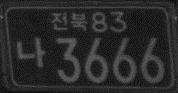3: (55, 36, 81, 82), (109, 10, 127, 33)
6: (111, 36, 138, 85), (140, 36, 166, 85), (84, 37, 108, 84)
8: (91, 10, 107, 32)
나: (15, 36, 46, 68)
전북_O: (50, 11, 87, 31)
